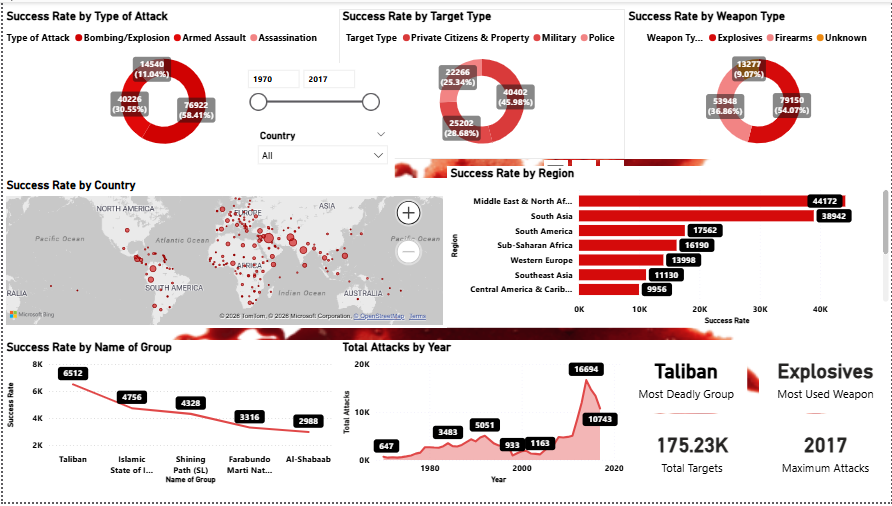

Layout of this report page (visuals, bound fields, positions):
{"tool":"powerbi","page":{"name":"Page 1","canvas":[1280,720],"ordinal":0},"visuals":[{"type":"donutChart","fields":{"Category":["Final Data.Type of Attack"],"Y":["Sum(Final Data.Success Rate)"]},"box":[0,10.1,462.2,216],"z":0},{"type":"donutChart","fields":{"Category":["Final Data.Target Type"],"Y":["Sum(Final Data.Success Rate)"]},"box":[483.8,10.1,411.8,216],"z":1},{"type":"donutChart","fields":{"Category":["Final Data.Weapon Type"],"Y":["Sum(Final Data.Success Rate)"]},"box":[895.7,10.1,384.5,216],"z":2},{"type":"map","fields":{"Category":["Final Data.Country"],"Size":["Sum(Final Data.Success Rate)"]},"box":[0,253.4,639.4,216],"z":3},{"type":"slicer","fields":{"Values":["Final Data.Country"]},"box":[357.8,178.1,206.6,75.6],"z":4},{"type":"barChart","fields":{"Category":["Final Data.Region"],"Y":["Sum(Final Data.Success Rate)"]},"box":[639.4,236.2,640.8,233.3],"z":5},{"type":"lineChart","fields":{"Category":["Final Data.Name of Group"],"Y":["Sum(Final Data.Success Rate)"]},"box":[0,487.1,483.8,211.7],"z":6},{"type":"slicer","fields":{"Values":["Final Data.Year"]},"box":[339.3,87.3,211.7,90.7],"z":7},{"type":"areaChart","fields":{"Category":["Final Data.Year"],"Y":["CountNonNull(Final Data.Success Rate)"]},"box":[483.8,487.1,414.9,211.7],"z":8},{"type":"card","fields":{"Values":["CountNonNull(Final Data.Target Type)"]},"box":[895.3,593,193.2,105.8],"z":9},{"type":"card","fields":{"Values":["Min(Final Data.Name of Group)"]},"box":[895.3,487.1,176.4,105.8],"z":11},{"type":"card","fields":{"Values":["Max(Final Data.Year)"]},"box":[1088.5,593,191.5,105.8],"z":12},{"type":"card","fields":{"Values":["Min(Final Data.Weapon Type)"]},"box":[1088.5,487.1,191.5,105.8],"z":13}]}

Visuals, with their boxes in screenshot pixels (x1, y1, x2, y2), scaled from the page's 1280x720 canvas onto the 892x506 screenshot:
donutChart - Final Data.Type of Attack x Sum(Final Data.Success Rate): bbox=(0, 7, 322, 159)
donutChart - Final Data.Target Type x Sum(Final Data.Success Rate): bbox=(337, 7, 624, 159)
donutChart - Final Data.Weapon Type x Sum(Final Data.Success Rate): bbox=(624, 7, 891, 159)
map - Final Data.Country x Sum(Final Data.Success Rate): bbox=(0, 178, 446, 330)
slicer - Final Data.Country: bbox=(249, 125, 393, 178)
barChart - Final Data.Region x Sum(Final Data.Success Rate): bbox=(446, 166, 891, 330)
lineChart - Final Data.Name of Group x Sum(Final Data.Success Rate): bbox=(0, 342, 337, 491)
slicer - Final Data.Year: bbox=(236, 61, 384, 125)
areaChart - Final Data.Year x CountNonNull(Final Data.Success Rate): bbox=(337, 342, 626, 491)
card - CountNonNull(Final Data.Target Type): bbox=(624, 417, 759, 491)
card - Min(Final Data.Name of Group): bbox=(624, 342, 747, 417)
card - Max(Final Data.Year): bbox=(759, 417, 891, 491)
card - Min(Final Data.Weapon Type): bbox=(759, 342, 891, 417)
